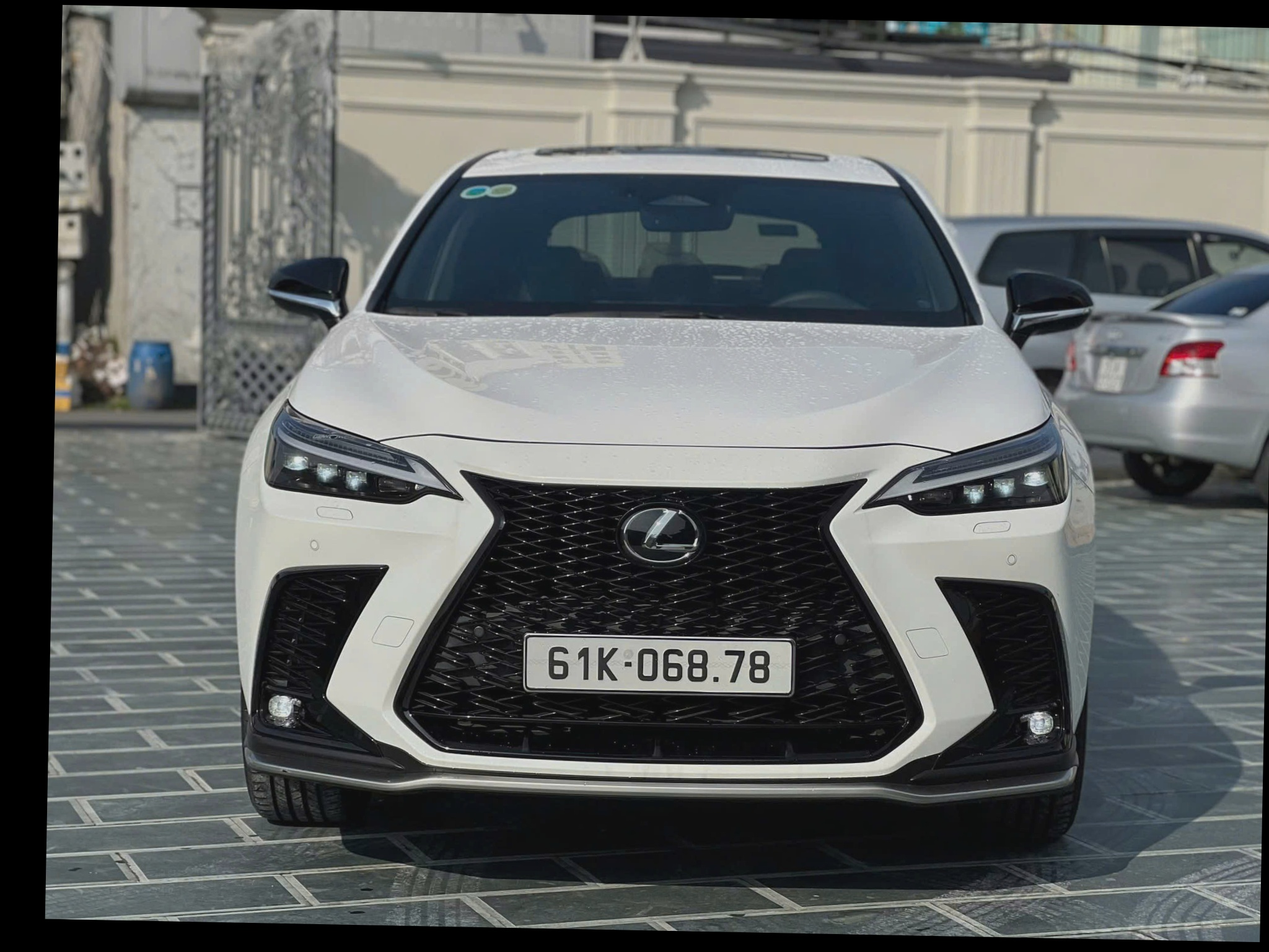Bien-so: (493, 611, 788, 693)
